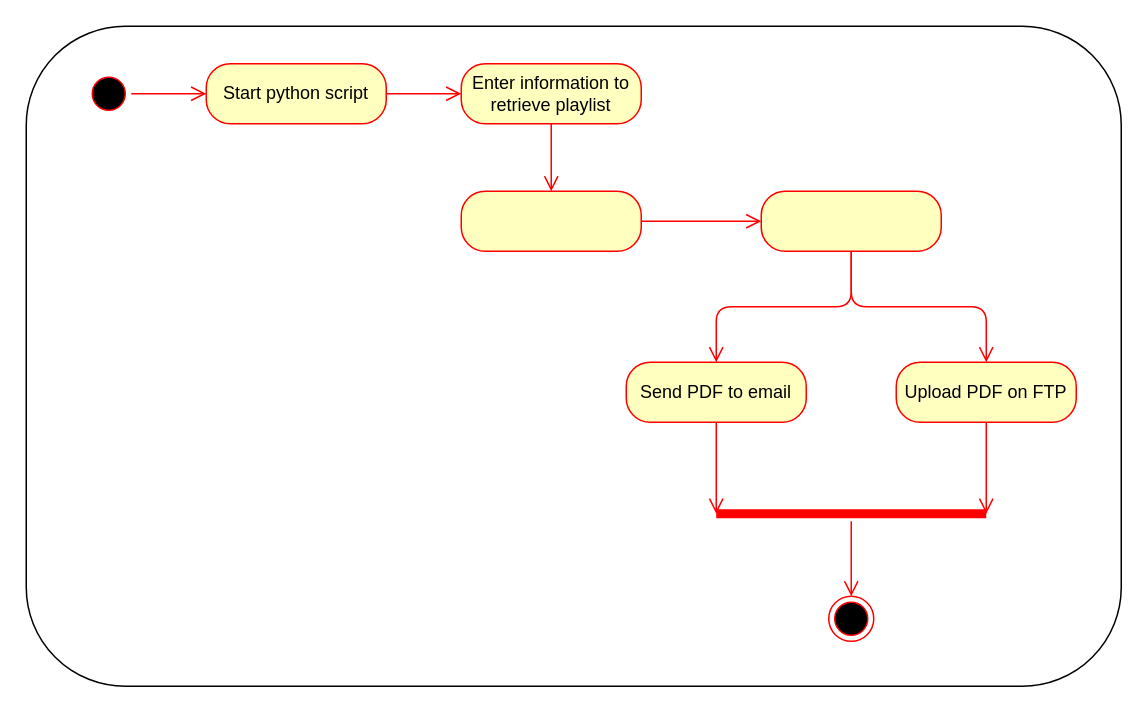
This 1148x713 diagram has some shape labels left out. Here are the shapes that lost their labels. From the top down, the centre of each, then its label:
the point at 550,220: Get playlist from Spotify API
the point at 850,220: Convert response to PDF file
